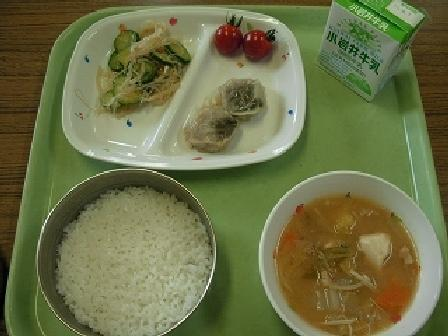Cherry tomatoes: (211, 13, 279, 62)
Milk: (317, 3, 431, 100)
Rice: (36, 167, 222, 334)
Salad: (88, 24, 185, 105)
Soups: (261, 175, 439, 335)
cutlet: (189, 75, 277, 154)
